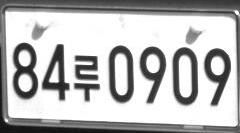0: (172, 46, 198, 106), (108, 44, 134, 103)
4: (42, 43, 69, 100)
8: (11, 41, 38, 99)
9: (203, 47, 232, 106), (139, 46, 166, 103)
루: (73, 55, 100, 102)
